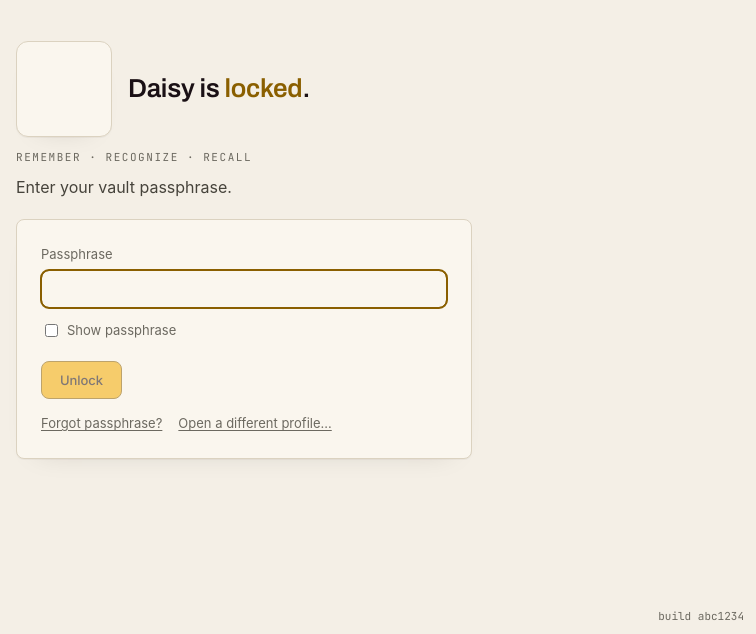
it: Unlock › shows why a profile switch failed
Click the button with test id "unlock-other-profile" at (255, 424), box [178,413,332,434]
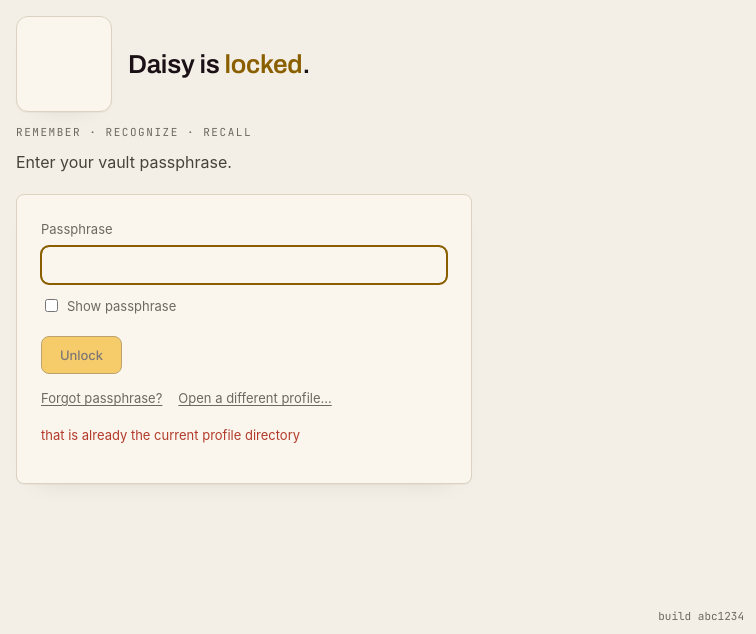
Result: the text with test id "unlock-switch-error" shows "already the current profile" at [41,427,300,443]
